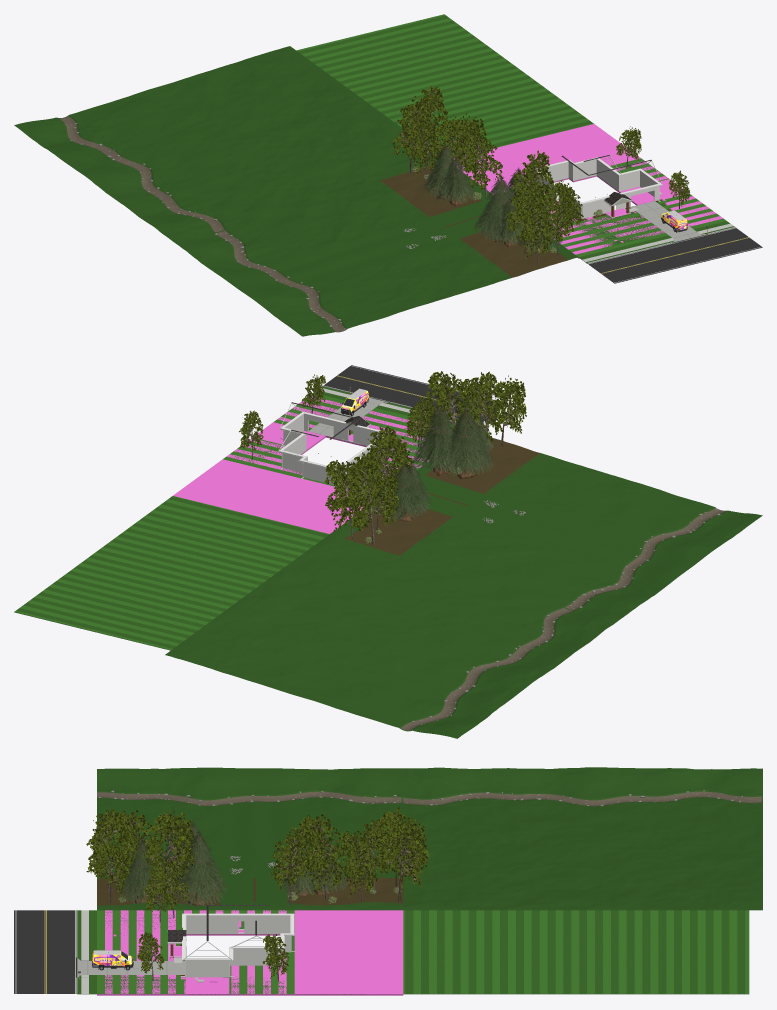
Rendered from slab_house_site.glb.
The picture shows the model from 3 angles, top to bottom: view 1: azimuth 30°, elevation 25°; view 2: azimuth 150°, elevation 25°; view 3: azimuth 270°, elevation 25°; orthographic projection. The views are drawn at different scales.
Parts seen in each view (by area): view 1: floor_terrain_west_spray, floor_terrain_west, site_mow_stripes_spray, floor_lot_spray, col_site, floor_street, site_mow_stripes, zone_backyard, floor_lot, site_dry_creek_bed_spray, zone_spray_field, site_forest_tree_3 (+17 smaller); view 2: floor_terrain_west_spray, floor_terrain_west, floor_lot_spray, site_mow_stripes_spray, zone_backyard, col_site, floor_street, site_mow_stripes, site_forest_pine_4, site_forest_tree_10, site_dry_creek_bed_spray, site_forest_pine_2 (+13 smaller); view 3: floor_terrain_west_spray, floor_terrain_west, floor_lot_spray, site_mow_stripes_spray, col_site, floor_street, zone_backyard, site_mow_stripes, zone_spray_field, zone_septic_field, site_forest_tree_4, site_dry_creek_bed_spray (+27 smaller).
Part boxes in pixels (x1,y1,x2,y2): floor_terrain_west_spray: (14,46,439,238); floor_terrain_west: (170,162,578,336); site_mow_stripes_spray: (296,14,593,152); floor_lot_spray: (298,15,592,152); col_site: (510,159,723,258); floor_street: (588,228,762,283); site_mow_stripes: (504,158,726,256); zone_backyard: (457,124,640,194); floor_lot: (554,162,734,263); site_dry_creek_bed_spray: (59,116,224,231); zone_spray_field: (478,136,591,185); site_forest_tree_3: (462,131,503,198); floor_terrain_west_spray: (165,534,621,738); floor_terrain_west: (330,438,762,617); floor_lot_spray: (14,496,328,650); site_mow_stripes_spray: (14,496,329,650); zone_backyard: (173,459,371,533); col_site: (226,396,436,492); floor_street: (324,365,508,421); site_mow_stripes: (223,393,453,495); site_forest_pine_4: (438,408,493,478); site_forest_tree_10: (347,459,392,544); site_dry_creek_bed_spray: (401,607,574,730); site_forest_pine_2: (413,404,461,475); floor_terrain_west_spray: (403,767,762,910); floor_terrain_west: (97,767,403,910); floor_lot_spray: (403,910,748,994); site_mow_stripes_spray: (403,910,749,993); col_site: (97,910,403,995); floor_street: (14,910,77,993); zone_backyard: (294,910,403,993); site_mow_stripes: (97,910,294,993); zone_spray_field: (304,918,383,985); zone_septic_field: (304,914,383,947); site_forest_tree_4: (298,814,346,900); site_dry_creek_bed_spray: (403,791,761,806).
Size of the model in its own units: 87.25 by 19.74 by 116.
Materials: 68 (28 with a texture image).
